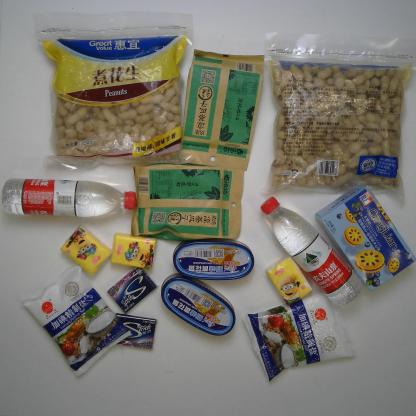Canned Food: (160, 272, 236, 336), (171, 237, 254, 282)
Dessert: (313, 183, 416, 296)
Dried Food: (33, 8, 195, 175), (261, 30, 416, 202), (178, 48, 265, 172), (129, 163, 245, 240)
Drink: (260, 196, 364, 310), (0, 178, 137, 220)
Gum: (106, 266, 158, 314), (112, 313, 158, 350)
Seasoner: (20, 262, 133, 379), (242, 291, 357, 383)
Tissue: (59, 225, 113, 277), (264, 253, 313, 308), (111, 231, 157, 270)
